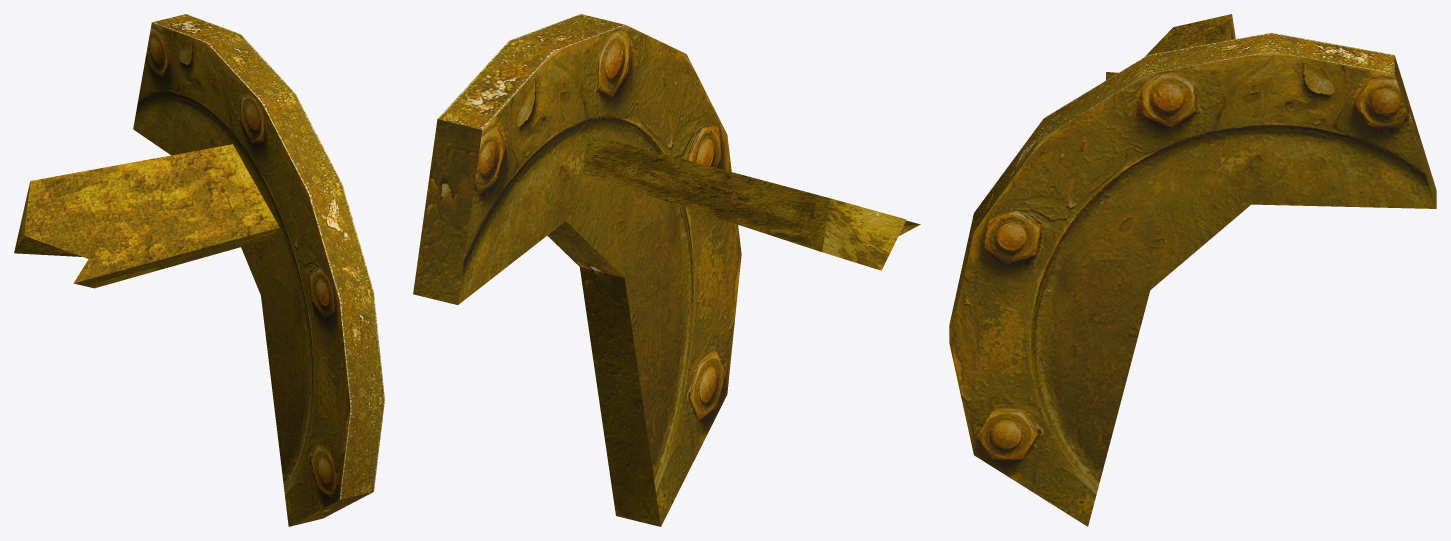
The model's file is valve_broken02_yellow.DAE.
3 views of the same model, side by side, from view 1: azimuth 30°, elevation 25°; view 2: azimuth 150°, elevation 25°; view 3: azimuth 270°, elevation 25° (orthographic). The views are drawn at different scales.
Parts seen in each view (by area): view 1: Object524, Object525; view 2: Object524, Object525; view 3: Object524, Object525.
Part boxes in pixels (bbox=[...]): Object524: bbox=[133, 14, 384, 526]; Object525: bbox=[14, 144, 279, 288]; Object524: bbox=[413, 14, 741, 526]; Object525: bbox=[583, 134, 920, 270]; Object524: bbox=[949, 33, 1436, 526]; Object525: bbox=[1106, 14, 1235, 80].
Bounding box in the file's own units: 0.3441 × 0.4966 × 0.5346.
